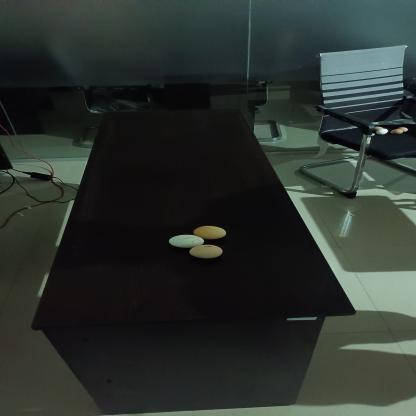egg: (170, 233, 206, 248), (188, 244, 223, 258), (194, 225, 228, 239)
